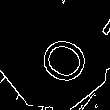O_NW: (22, 24, 88, 86)
